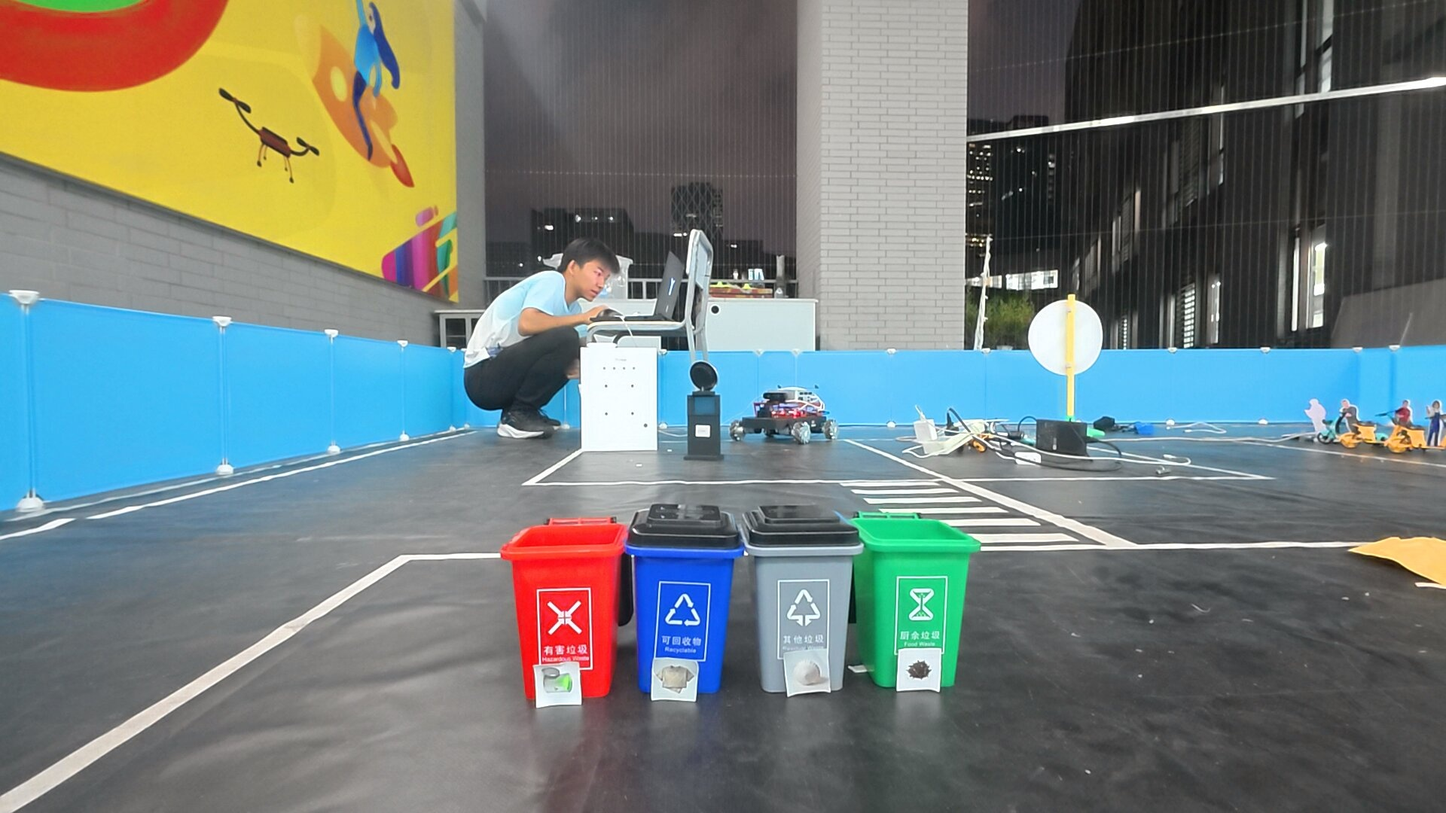food_trash: (900, 651, 941, 690)
hazardous_trash: (535, 666, 578, 703)
other_trash: (784, 655, 829, 689)
recyclable_trash: (654, 660, 694, 699)
